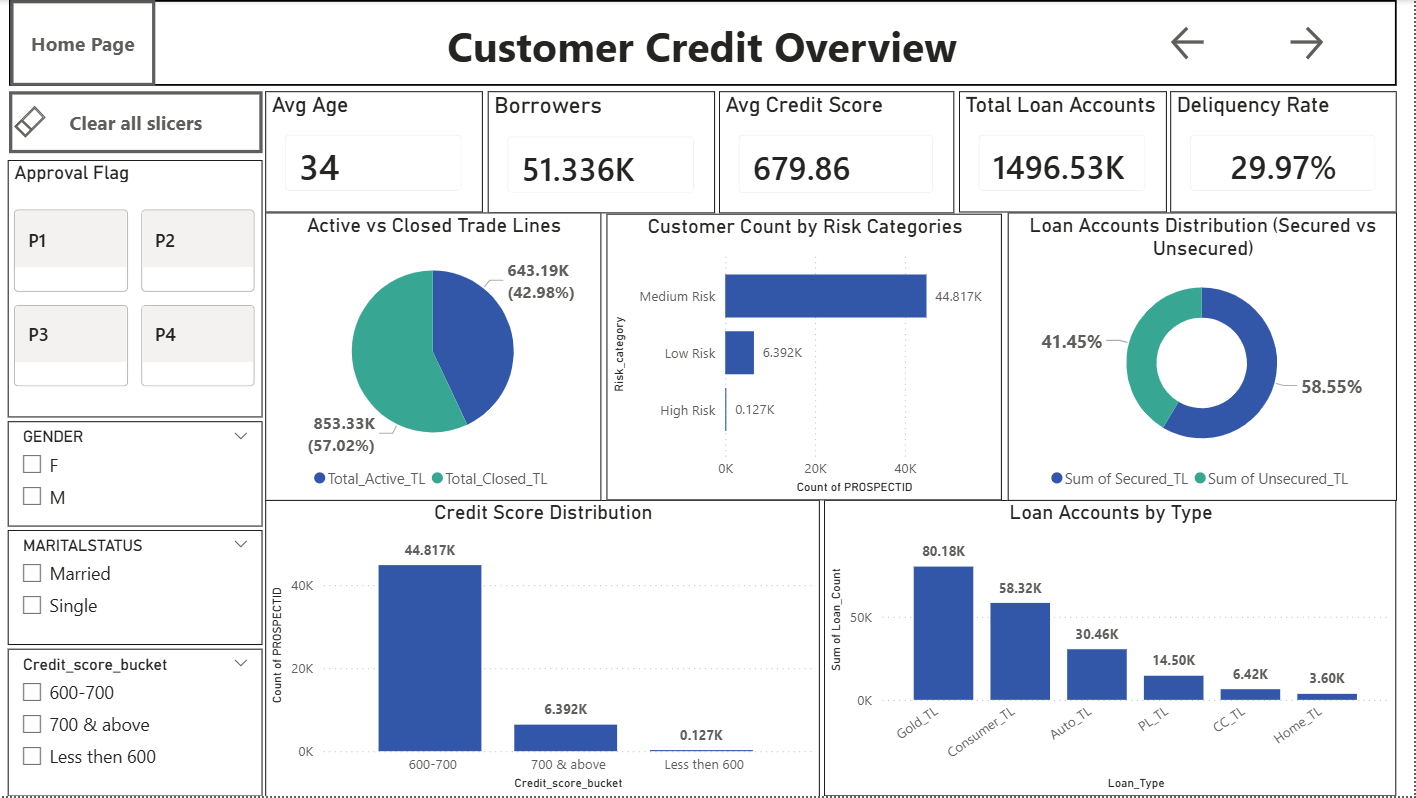

The dashboard page shown, as its layout file describes it:
{"tool":"powerbi","page":{"name":"Credit Overview","canvas":[1280,720],"ordinal":1},"visuals":[{"type":"textbox","box":[9.6,0,1254.8,77.9],"z":0},{"type":"cardVisual","title":"Deliquency Rate","fields":{"Data":["External_Cibil.Deliquency_rate"]},"box":[1059.7,82.1,204.6,109.5],"z":1000},{"type":"cardVisual","title":"Total Loan Accounts","fields":{"Data":["Sum(Internal_Bank.Total_TL)"]},"box":[868.1,82.1,187.7,109.5],"z":2000},{"type":"cardVisual","title":"Avg Credit Score","fields":{"Data":["Avg(External_Cibil.Credit_Score)"]},"box":[651.7,82.1,212.5,110.8],"z":3000},{"type":"cardVisual","title":"Borrowers","fields":{"Data":["Count(Internal_Bank.PROSPECTID)"]},"box":[441.9,82.1,205.9,110.8],"z":4000},{"type":"clusteredColumnChart","title":"Credit Score Distribution","fields":{"Category":["External_Cibil.Credit_score_bucket"],"Y":["CountNonNull(External_Cibil.PROSPECTID)"]},"box":[241.2,452.1,501.7,268.4],"z":5000},{"type":"clusteredColumnChart","title":"Loan Accounts by Type","fields":{"Category":["Internal_Bank.Loan_Type"],"Y":["Sum(Internal_Bank.Loan_Count)"]},"box":[746.2,452.3,517.8,268],"z":6000},{"type":"cardVisual","title":"Avg Age","fields":{"Data":["Avg(External_Cibil.AGE)"]},"box":[241.1,82.1,196.8,109.5],"z":7000},{"type":"donutChart","title":"Loan Accounts Distribution (Secured vs Unsecured)","fields":{"Y":["Sum(Internal_Bank.Secured_TL)","Sum(Internal_Bank.Unsecured_TL)"]},"box":[912.4,191.8,351.7,260.7],"z":8000},{"type":"slicer","fields":{"Values":["External_Cibil.GENDER"]},"box":[7.9,381,230.7,95],"z":9000},{"type":"slicer","fields":{"Values":["External_Cibil.MARITALSTATUS"]},"box":[7.9,479.4,230.7,104],"z":10000},{"type":"slicer","fields":{"Values":["External_Cibil.Credit_score_bucket"]},"box":[7.9,586.8,230.7,133.4],"z":11000},{"type":"pieChart","title":"Active vs Closed Trade Lines","fields":{"Y":["External_Cibil.Total_Active_TL","External_Cibil.Total_Closed_TL"]},"box":[241,191.8,303.7,260.7],"z":12000},{"type":"actionButton","box":[9.1,82.1,229.4,56],"z":13000},{"type":"cardVisual","title":"Approval Flag","fields":{"Rows":["External_Cibil.Approved_Flag"]},"box":[7.9,144.7,230.7,232.9],"z":14000},{"type":"clusteredBarChart","title":"Customer Count by Risk Categories","fields":{"Y":["Count(External_Cibil.PROSPECTID)"],"Category":["External_Cibil.Risk_category"]},"box":[549.6,193,357.8,259.4],"z":15000},{"type":"actionButton","box":[1055.9,19.2,99.5,39.6],"z":16000},{"type":"actionButton","box":[1162.5,19.2,99.5,39.6],"z":17000},{"type":"actionButton","title":"Home Page","box":[10.1,0,131.3,77.9],"z":18000}]}

Visuals, with their boxes in screenshot pixels (x1, y1, x2, y2), scaled from the page's 1280x720 canvas onto the 1416x798 screenshot:
textbox: {"left": 11, "top": 0, "right": 1399, "bottom": 86}
"Deliquency Rate" cardVisual: {"left": 1172, "top": 91, "right": 1399, "bottom": 212}
"Total Loan Accounts" cardVisual: {"left": 960, "top": 91, "right": 1168, "bottom": 212}
"Avg Credit Score" cardVisual: {"left": 721, "top": 91, "right": 956, "bottom": 214}
"Borrowers" cardVisual: {"left": 489, "top": 91, "right": 717, "bottom": 214}
"Credit Score Distribution" clusteredColumnChart: {"left": 267, "top": 501, "right": 822, "bottom": 797}
"Loan Accounts by Type" clusteredColumnChart: {"left": 825, "top": 501, "right": 1398, "bottom": 797}
"Avg Age" cardVisual: {"left": 267, "top": 91, "right": 484, "bottom": 212}
"Loan Accounts Distribution (Secured vs Unsecured)" donutChart: {"left": 1009, "top": 213, "right": 1398, "bottom": 502}
slicer - External_Cibil.GENDER: {"left": 9, "top": 422, "right": 264, "bottom": 528}
slicer - External_Cibil.MARITALSTATUS: {"left": 9, "top": 531, "right": 264, "bottom": 647}
slicer - External_Cibil.Credit_score_bucket: {"left": 9, "top": 650, "right": 264, "bottom": 797}
"Active vs Closed Trade Lines" pieChart: {"left": 267, "top": 213, "right": 603, "bottom": 502}
actionButton: {"left": 10, "top": 91, "right": 264, "bottom": 153}
"Approval Flag" cardVisual: {"left": 9, "top": 160, "right": 264, "bottom": 419}
"Customer Count by Risk Categories" clusteredBarChart: {"left": 608, "top": 214, "right": 1004, "bottom": 501}
actionButton: {"left": 1168, "top": 21, "right": 1278, "bottom": 65}
actionButton: {"left": 1286, "top": 21, "right": 1396, "bottom": 65}
"Home Page" actionButton: {"left": 11, "top": 0, "right": 156, "bottom": 86}
